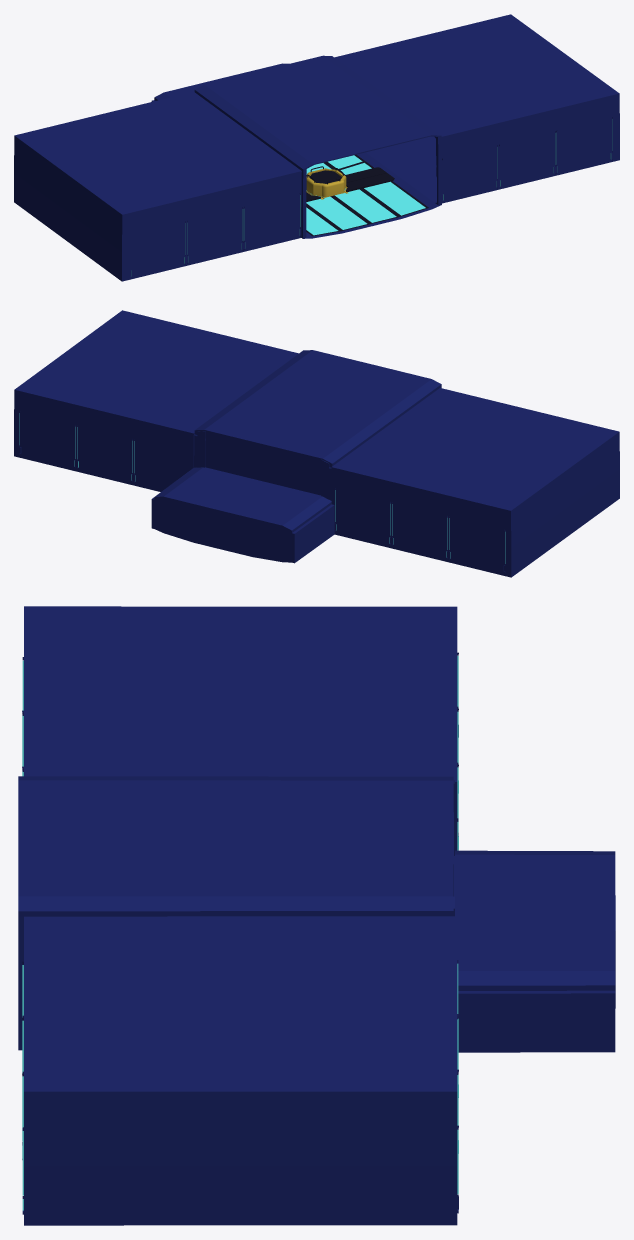
The model's file is labdoor.fbx.
3 views of the same model, one above another, from view 1: azimuth 30°, elevation 25°; view 2: azimuth 150°, elevation 25°; view 3: azimuth 270°, elevation 25° (orthographic). The views are drawn at different scales.
Visible parts, largest first — view 1: corridor, Room21.002_Cylinder.006, base01, wallfaza.005; view 2: corridor, wallfaza; view 3: corridor, wallfaza.
Boxes of the visible parts, x1,y1,x2,y2 form: corridor: (14,14,619,281); Room21.002_Cylinder.006: (306,167,394,201); base01: (306,168,348,199); wallfaza.005: (130,117,612,276); corridor: (14,310,619,577); wallfaza: (19,411,505,572); corridor: (18,606,615,1225); wallfaza: (457,652,458,1213).
Size of the model in its own units: 375 by 55.03 by 195.
